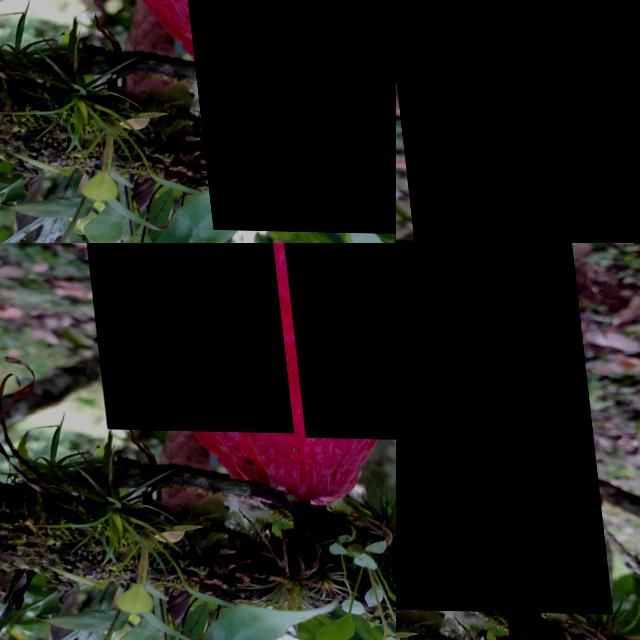Monilia: (396, 0, 640, 243)
Sana: (396, 243, 601, 611), (165, 0, 396, 233), (74, 243, 284, 431), (273, 243, 396, 438)
